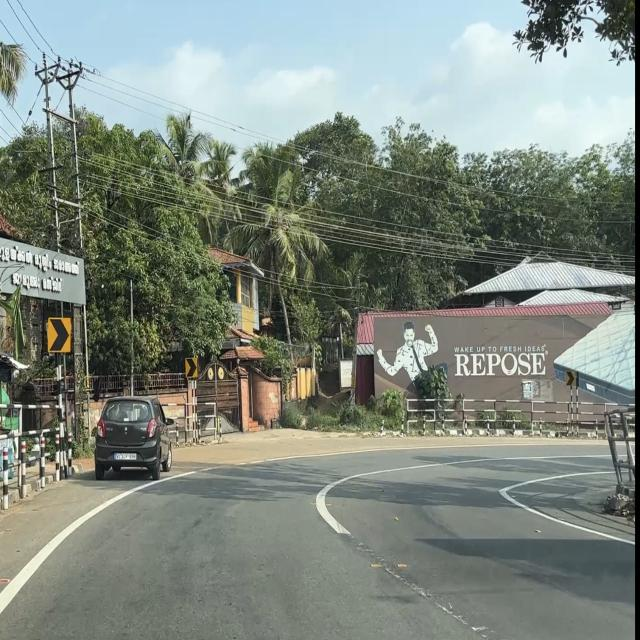TURN_RIGHT: (47, 316, 71, 353), (185, 357, 198, 378), (566, 371, 575, 386)
